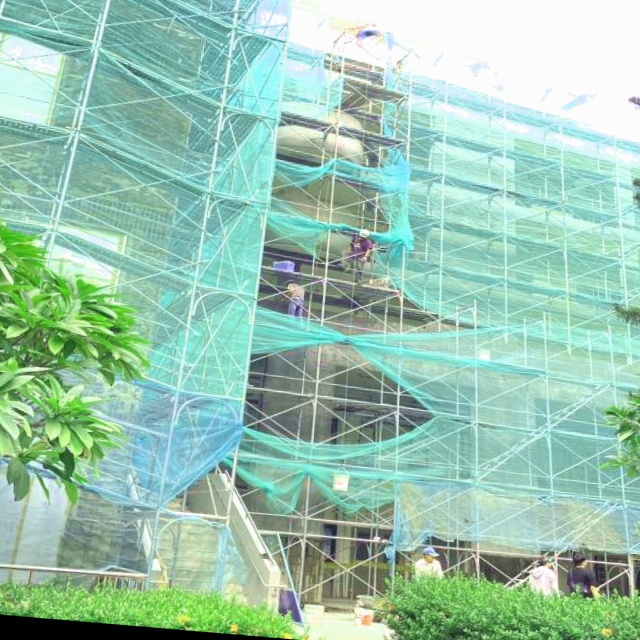Con_Casco: (360, 229, 370, 238)
Sin_Casco_Mascarrilla: (420, 546, 440, 561), (537, 556, 553, 569), (572, 555, 588, 568)
